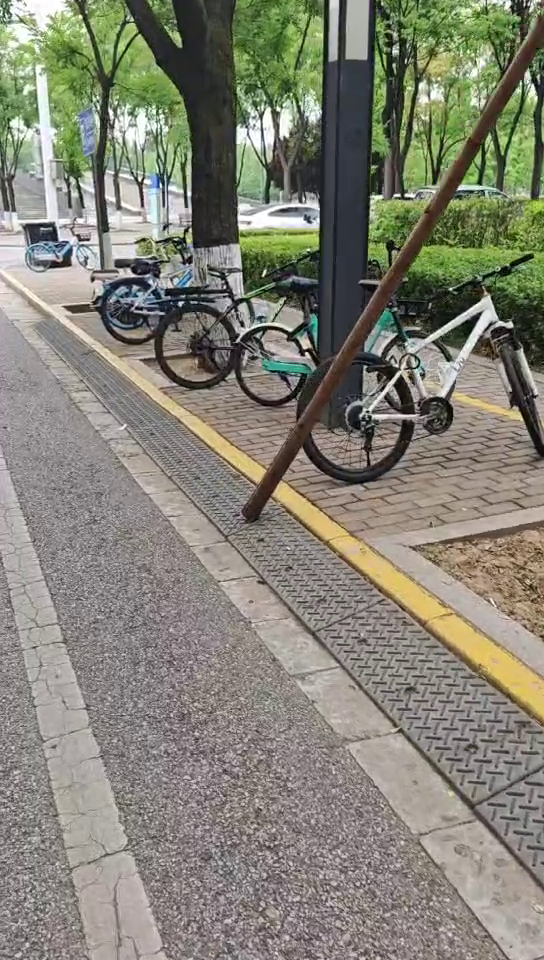others: (304, 261, 540, 483), (153, 250, 319, 392)
shared_bike_qingcong: (243, 256, 456, 417)
